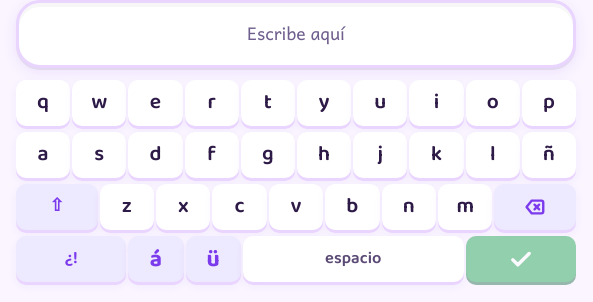
Scenario: TextInput › the on-screen keyboard types into the same box
The width and height of the screenshot is (593, 302).
Click the button "ñ" at (549, 155), box [522, 132, 576, 178]
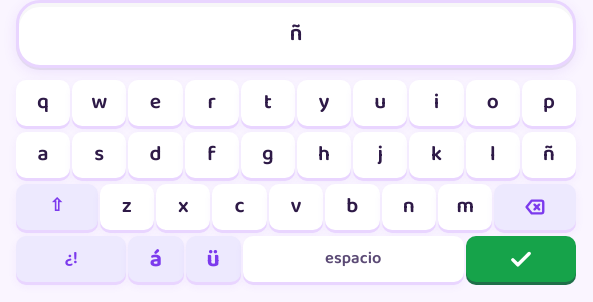
Click the button "a" at (43, 155), box [16, 132, 70, 178]
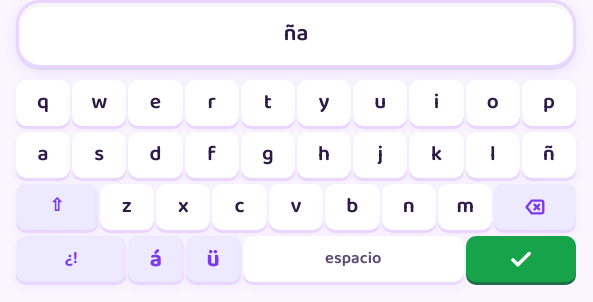
Expected: the field named "Respuesta" reads "ña", [284, 15, 308, 52]
Click the button named "Borrar" at (535, 207), box [494, 184, 576, 230]
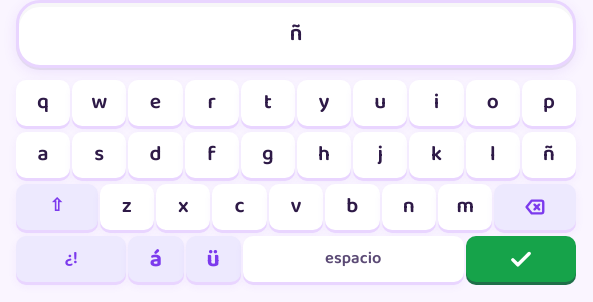
Expected: the field named "Respuesta" reads "ñ", [290, 15, 302, 52]
